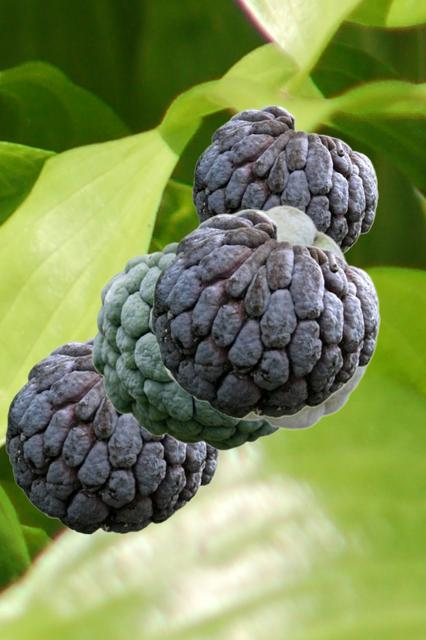atis: (151, 208, 379, 417), (163, 204, 374, 429), (5, 336, 220, 533), (91, 240, 279, 450), (192, 104, 377, 253)
